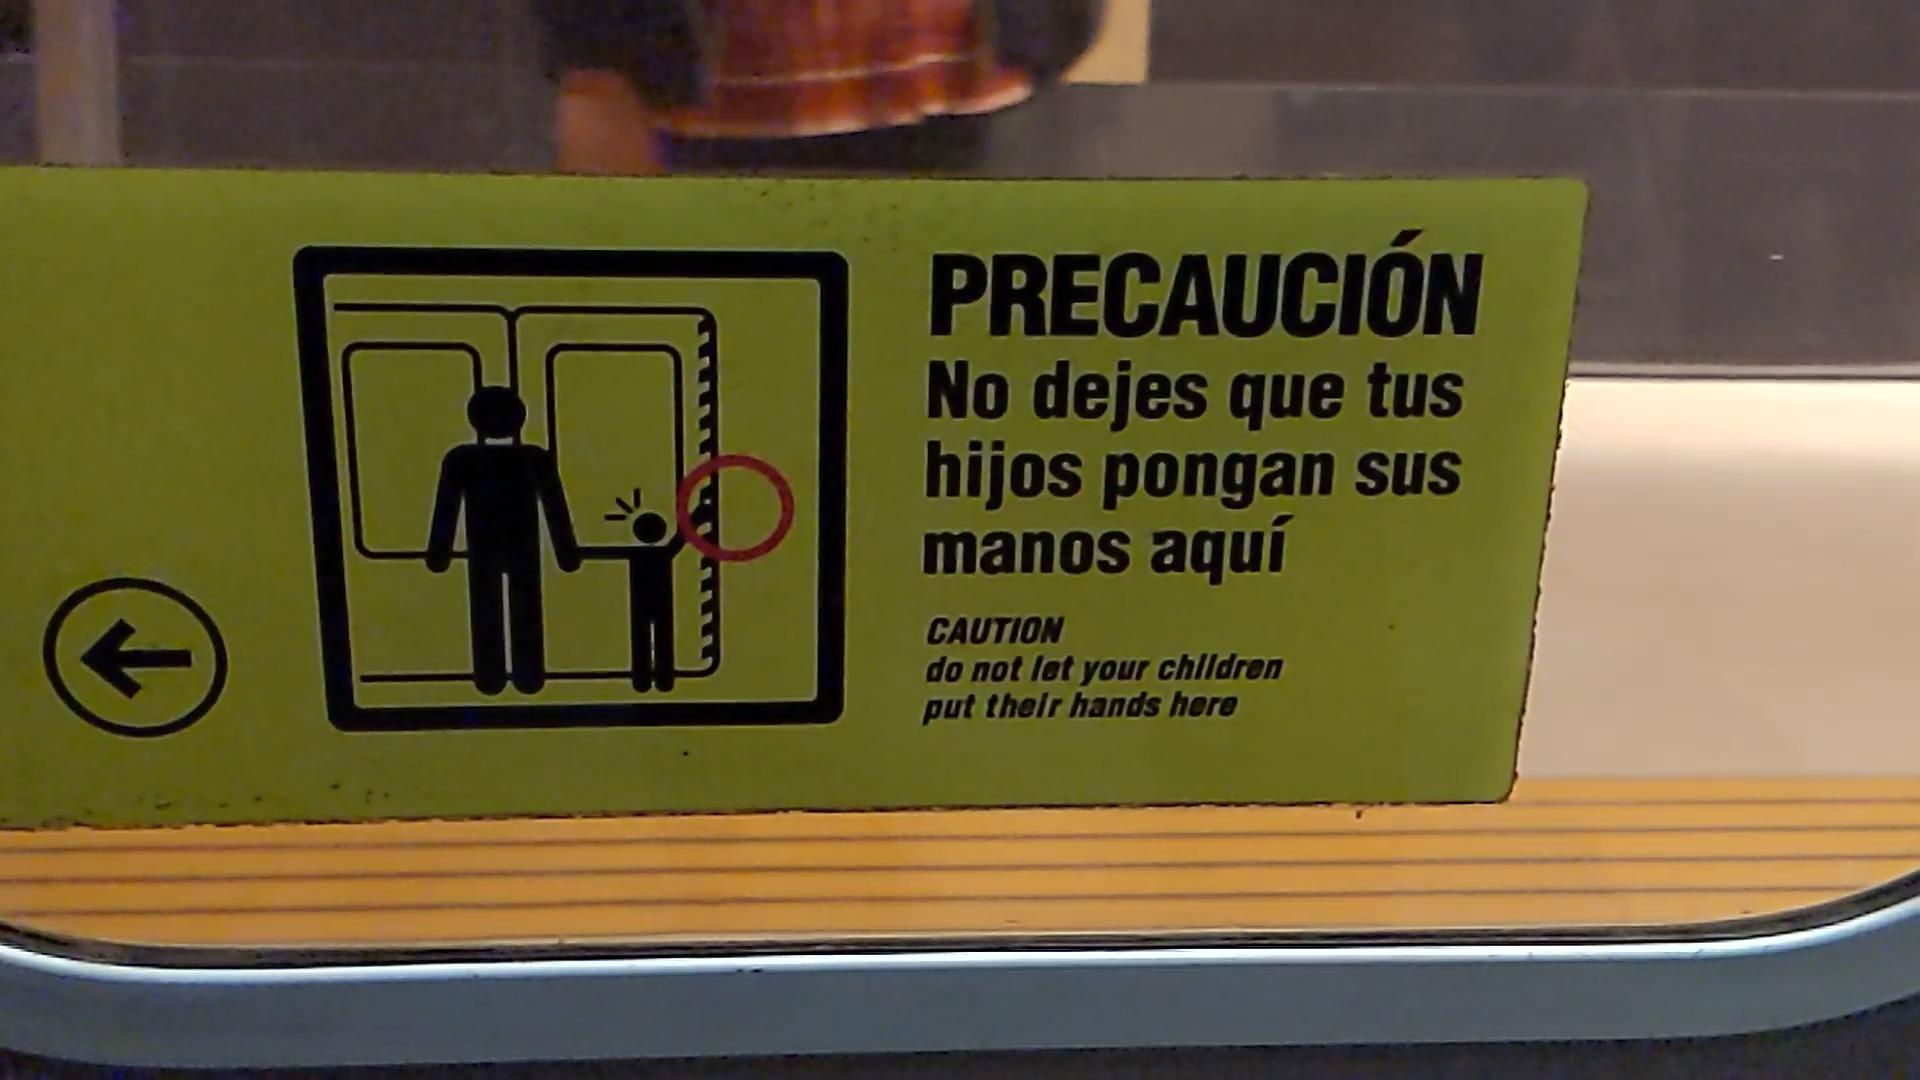left arrow: (73, 618, 200, 703)
